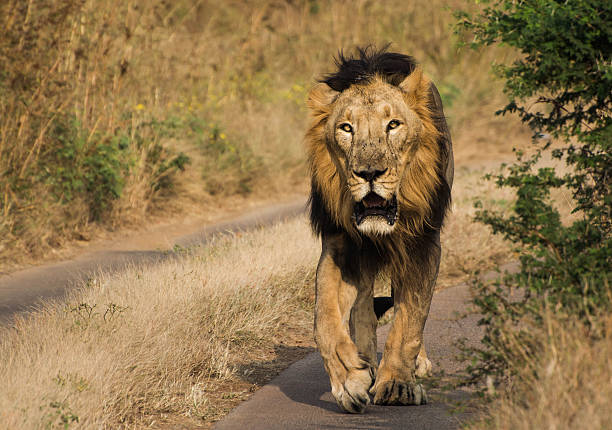lion: (262, 29, 473, 315)
